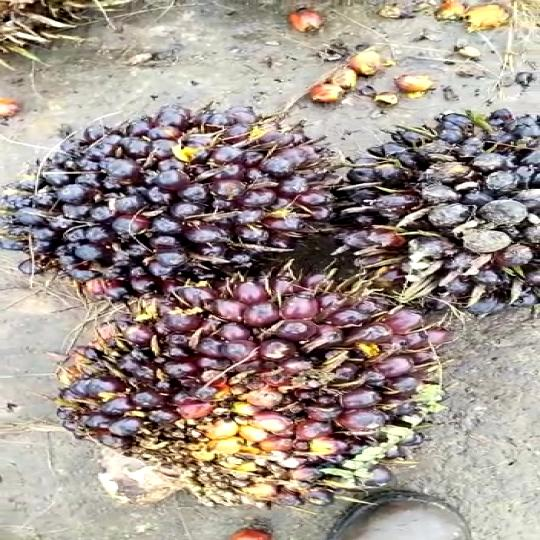mentah: (72, 238, 453, 508), (4, 88, 330, 293), (342, 107, 538, 314)
